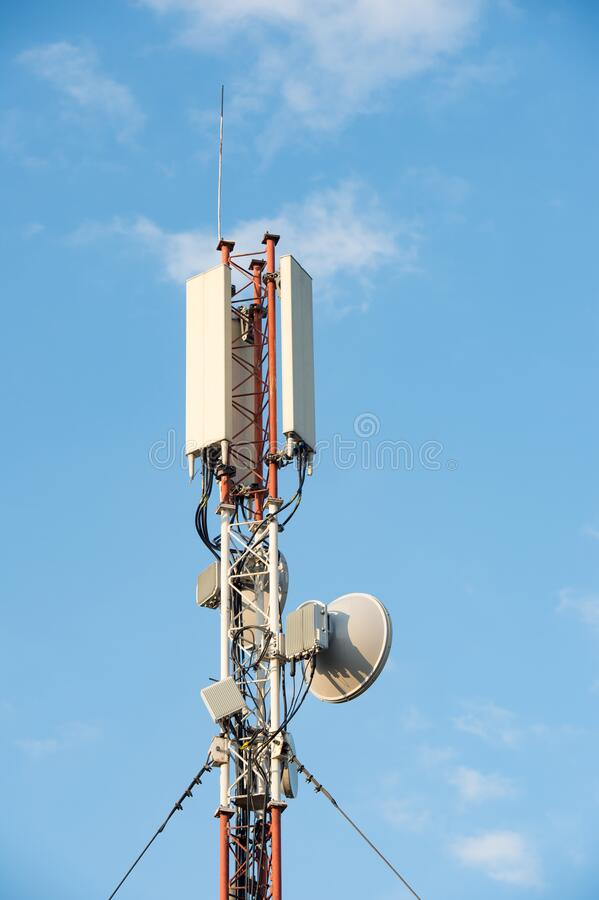ba: (300, 571, 398, 714)
sa: (172, 248, 247, 471), (262, 242, 324, 466)
